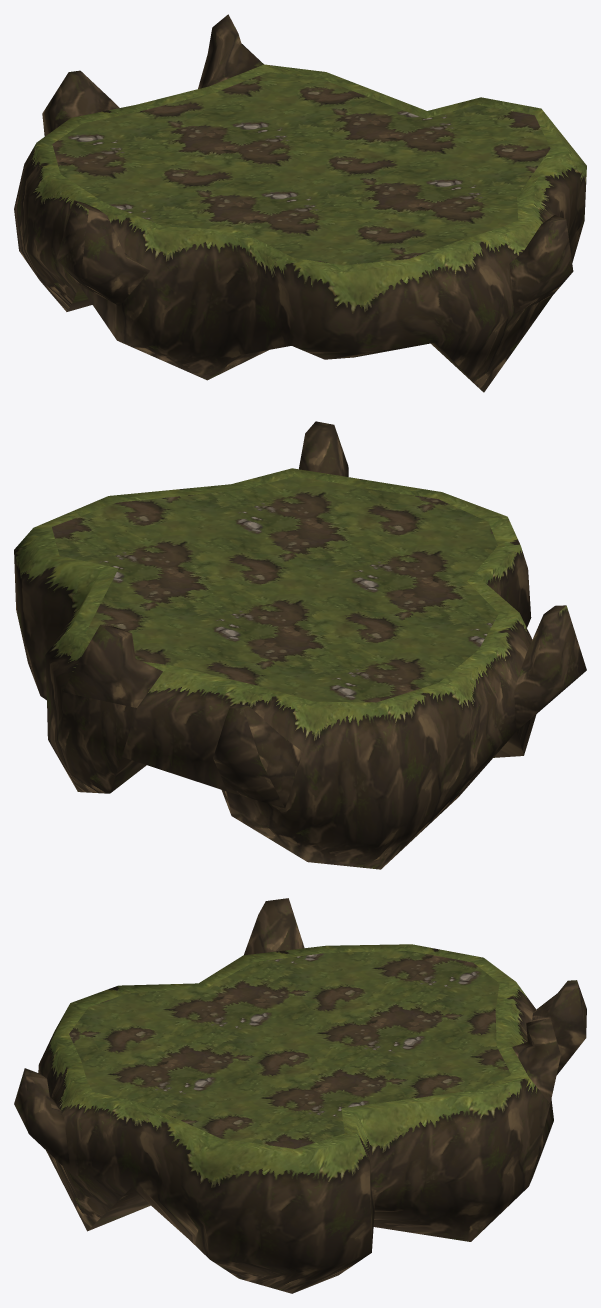
The model's file is F2_dixing_02.FBX.
3 renders of one model, top to bottom at view 1: azimuth 30°, elevation 25°; view 2: azimuth 150°, elevation 25°; view 3: azimuth 270°, elevation 25°, orthographic. The views are drawn at different scales.
Parts seen in each view (by area): view 1: Cylinder30, 对象25; view 2: Cylinder30, 对象25; view 3: Cylinder30, 对象25.
Boxes of the visible parts, x1,y1,x2,y2 form: Cylinder30: (14, 14, 586, 392); 对象25: (52, 72, 550, 265); Cylinder30: (14, 421, 586, 869); 对象25: (52, 476, 498, 702); Cylinder30: (14, 898, 586, 1293); 对象25: (69, 951, 511, 1148).
Size of the model in its own units: 1404 by 567 by 1430.
